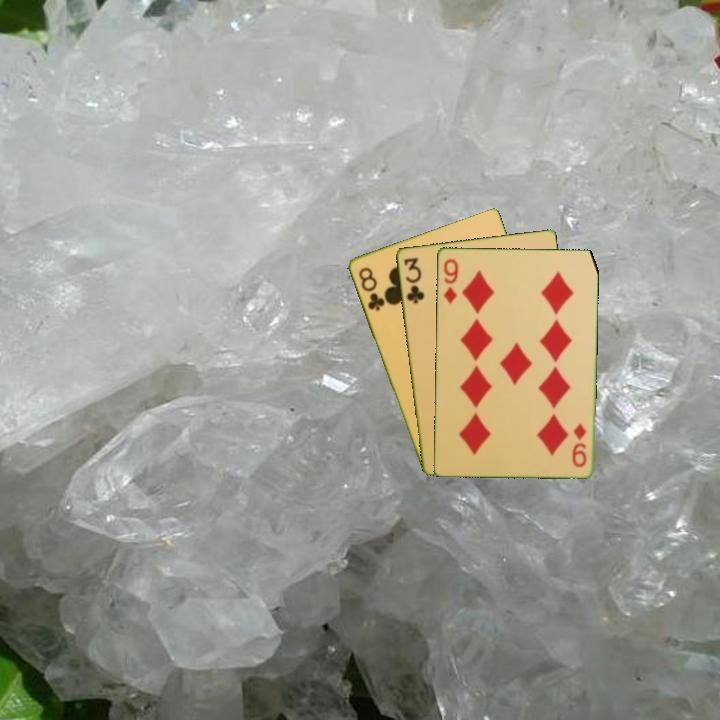3c: (400, 254, 427, 306)
8c: (355, 264, 387, 314)
9d: (568, 420, 589, 470), (440, 255, 460, 306)
